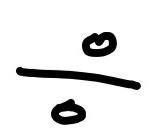div: (11, 32, 139, 127)
